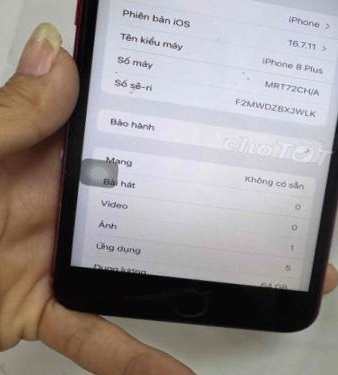scratch: (99, 57, 153, 99), (228, 62, 255, 88)
